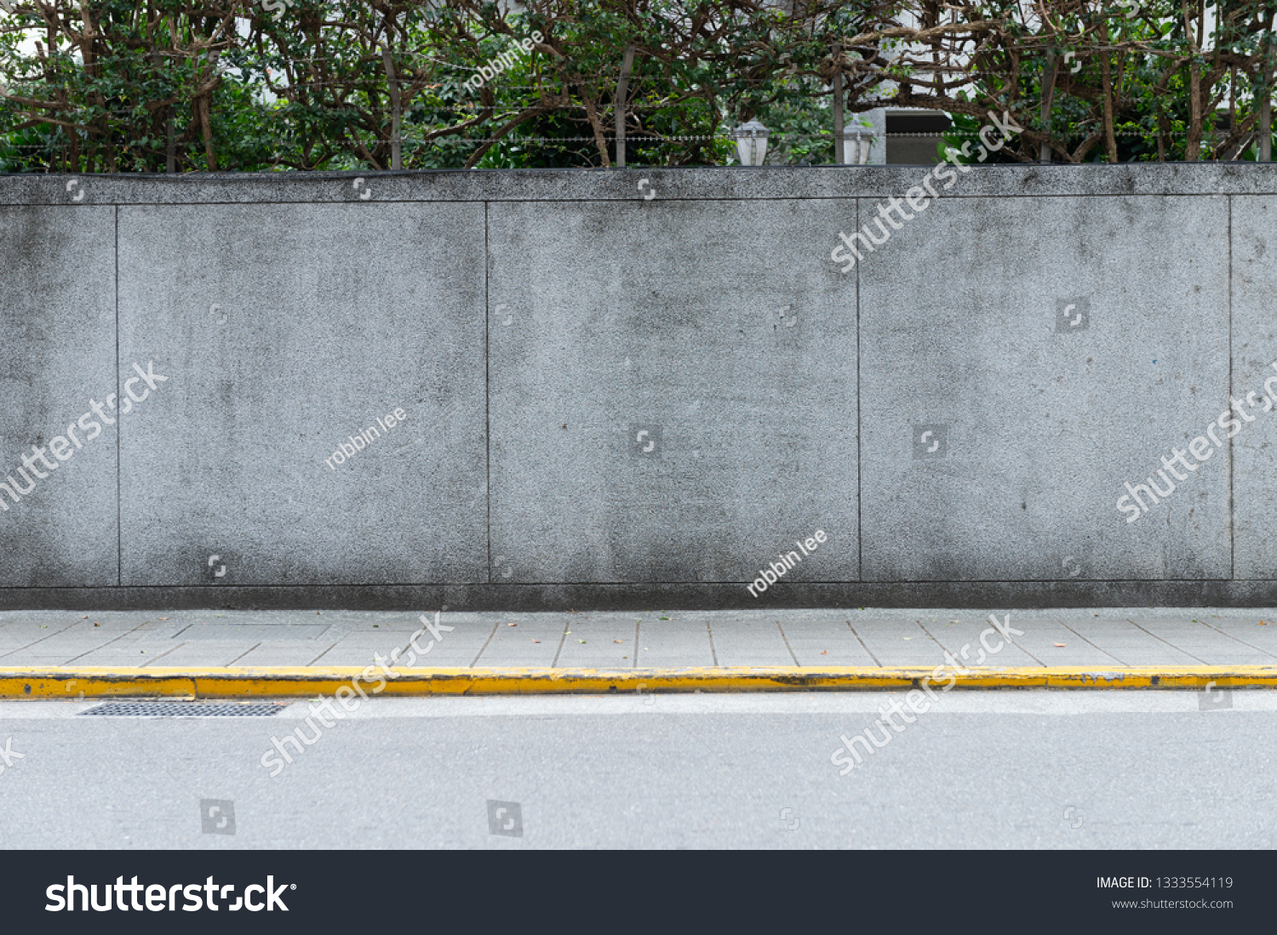Wall: (16, 183, 1265, 597)
